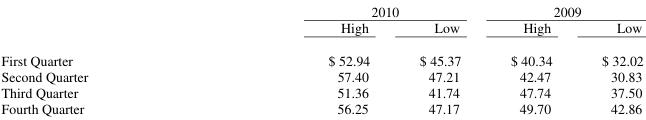table: (0, 1, 642, 116)
table column: (0, 1, 207, 116), (207, 1, 394, 116), (394, 1, 485, 116), (485, 1, 576, 116), (576, 1, 642, 116)
table column header: (0, 1, 642, 43)
table row: (0, 18, 642, 43), (0, 43, 642, 67), (0, 1, 642, 18), (0, 99, 642, 116), (0, 67, 642, 83), (0, 83, 642, 99)
table spanning cell: (207, 1, 485, 18), (485, 1, 642, 18)
